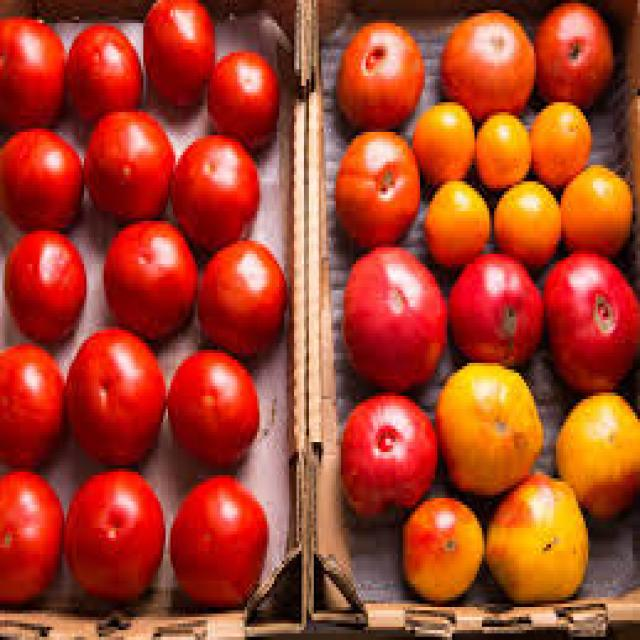tomato: (343, 248, 448, 392), (64, 472, 168, 610), (67, 330, 168, 472), (168, 478, 269, 614), (544, 251, 638, 396), (341, 396, 440, 528), (101, 221, 200, 346), (165, 353, 262, 472), (200, 241, 289, 363), (449, 258, 544, 370), (84, 112, 178, 224), (173, 133, 261, 252), (5, 231, 91, 346), (440, 10, 536, 113), (337, 21, 425, 133), (144, 0, 218, 129), (0, 128, 86, 234), (536, 0, 616, 112), (0, 343, 67, 472), (67, 23, 146, 129), (0, 475, 64, 604), (0, 16, 67, 132), (208, 53, 282, 155)
